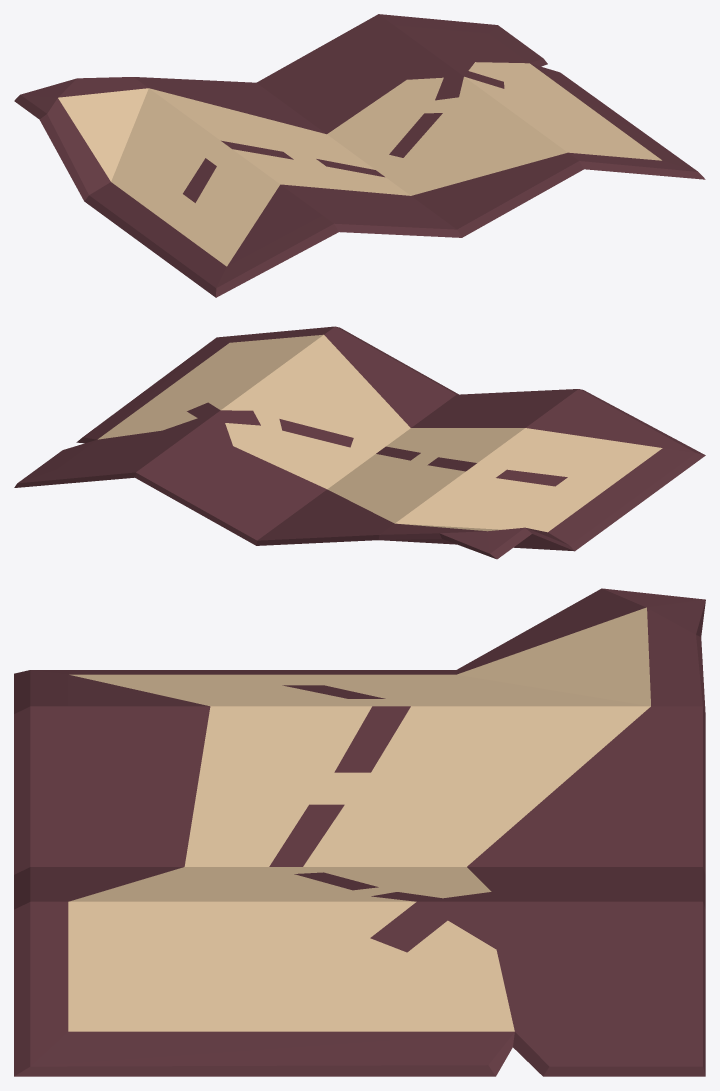
File: map.fbx
3 renders of one model, top to bottom at view 1: azimuth 30°, elevation 25°; view 2: azimuth 150°, elevation 25°; view 3: azimuth 270°, elevation 25°, orthographic. The views are drawn at different scales.
Visible parts, largest first — view 1: map; view 2: map; view 3: map.
Part boxes in pixels (box(x1,y1,x2,y2)): map: box(14, 14, 705, 297); map: box(14, 326, 705, 559); map: box(14, 588, 705, 1076).
Size of the model in its own units: 0.6343 by 0.0694 by 0.4623.
